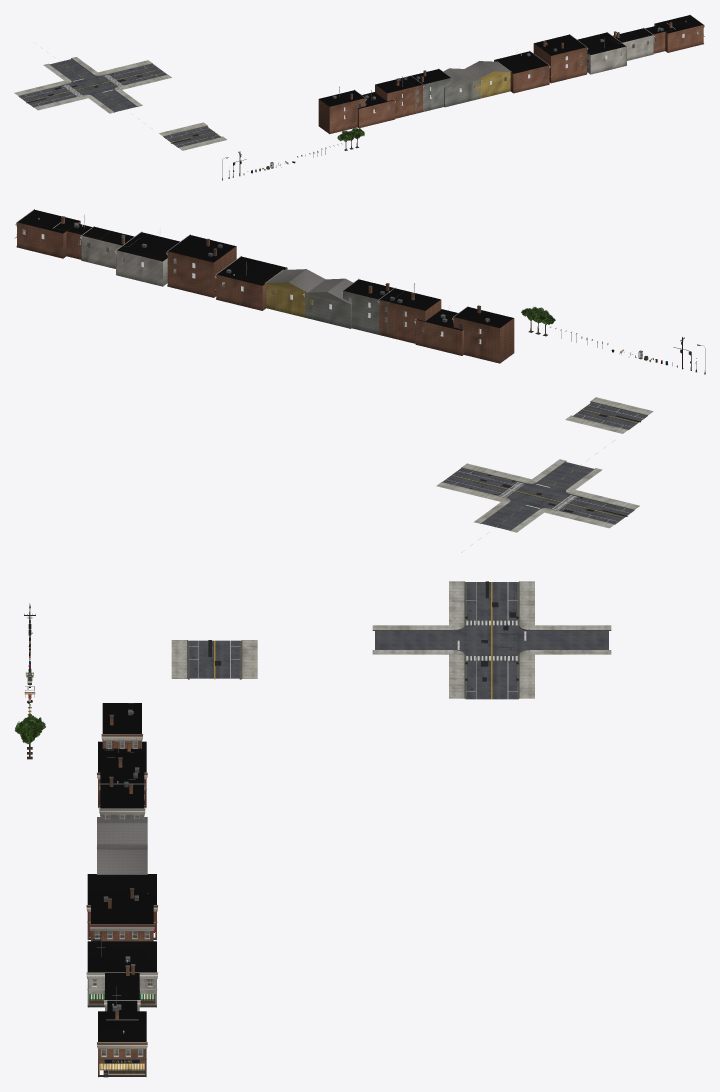
The model's file is street_kit.glb.
The picture shows the model from 3 angles, top to bottom: view 1: azimuth 30°, elevation 25°; view 2: azimuth 150°, elevation 25°; view 3: azimuth 270°, elevation 25°; orthographic projection. The views are drawn at different scales.
Visible parts, largest first — view 1: Module_Cross, Bld_21_LOD0, Bld_00_LOD0, Bld_18_LOD0, Bld_06_LOD0, Bld_24_LOD0, Bld_15_LOD0, Bld_33_LOD0, Bld_09_LOD0, Bld_12_LOD0, Module_Straight20, Bld_03_LOD0 (+2 smaller); view 2: Module_Cross, Bld_21_LOD0, Bld_00_LOD0, Bld_18_LOD0, Bld_24_LOD0, Bld_06_LOD0, Bld_33_LOD0, Bld_15_LOD0, Bld_09_LOD0, Bld_12_LOD0, Module_Straight20, Bld_03_LOD0 (+2 smaller); view 3: Module_Cross, Bld_24_LOD0, Module_Straight20, Bld_33_LOD0, Bld_21_LOD0, Bld_00_LOD0, Bld_18_LOD0, Bld_09_LOD0, Bld_15_LOD0, Bld_06_LOD0, Bld_12_LOD0, Bld_27_LOD0.
Part boxes in pixels (left/top/right/bottom): Module_Cross: left=14, top=43, right=171, bottom=128; Bld_21_LOD0: left=533, top=34, right=588, bottom=83; Bld_00_LOD0: left=318, top=86, right=366, bottom=134; Bld_18_LOD0: left=494, top=50, right=551, bottom=93; Bld_06_LOD0: left=375, top=75, right=424, bottom=118; Bld_24_LOD0: left=577, top=32, right=628, bottom=74; Bld_15_LOD0: left=461, top=61, right=511, bottom=99; Bld_33_LOD0: left=654, top=14, right=704, bottom=52; Bld_09_LOD0: left=403, top=68, right=452, bottom=113; Bld_12_LOD0: left=431, top=68, right=482, bottom=107; Module_Straight20: left=159, top=122, right=226, bottom=150; Bld_03_LOD0: left=345, top=90, right=395, bottom=127; Module_Cross: left=436, top=440, right=639, bottom=552; Bld_21_LOD0: left=165, top=234, right=236, bottom=297; Bld_00_LOD0: left=452, top=305, right=514, bottom=363; Bld_18_LOD0: left=213, top=256, right=287, bottom=310; Bld_24_LOD0: left=114, top=231, right=179, bottom=286; Bld_06_LOD0: left=377, top=283, right=441, bottom=343; Bld_33_LOD0: left=14, top=209, right=80, bottom=258; Bld_15_LOD0: left=265, top=269, right=325, bottom=317; Bld_09_LOD0: left=341, top=278, right=405, bottom=336; Bld_12_LOD0: left=302, top=278, right=368, bottom=328; Module_Straight20: left=565, top=397, right=653, bottom=433; Bld_03_LOD0: left=414, top=309, right=479, bottom=355; Module_Cross: left=372, top=581, right=611, bottom=699; Bld_24_LOD0: left=86, top=938, right=158, bottom=1007; Module_Straight20: left=171, top=640, right=257, bottom=679; Bld_33_LOD0: left=96, top=1008, right=147, bottom=1077; Bld_21_LOD0: left=89, top=888, right=154, bottom=941; Bld_00_LOD0: left=101, top=703, right=143, bottom=750; Bld_18_LOD0: left=86, top=874, right=158, bottom=940; Bld_09_LOD0: left=99, top=776, right=145, bottom=819; Bld_15_LOD0: left=97, top=844, right=147, bottom=874; Bld_06_LOD0: left=99, top=753, right=145, bottom=815; Bld_12_LOD0: left=97, top=817, right=147, bottom=844; Bld_27_LOD0: left=103, top=964, right=140, bottom=1011.
Size of what is drawn, in the model's own units: 255 by 16.25 by 150.
Materials: 56 (44 with a texture image).
